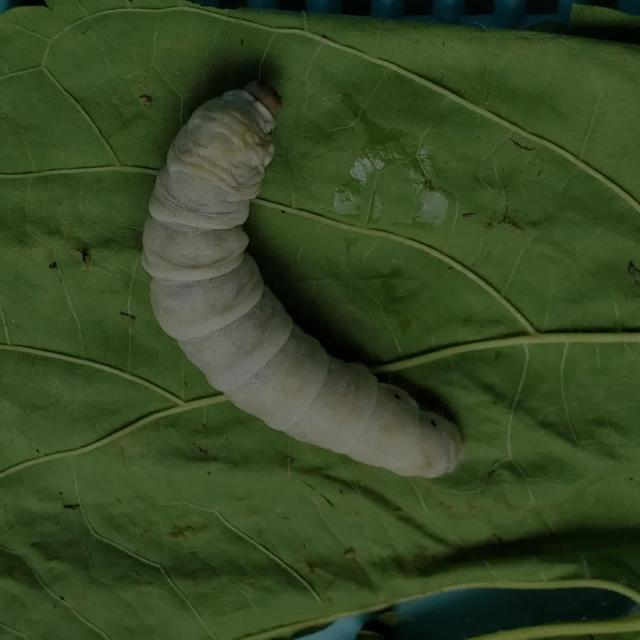Grasserie: (111, 52, 513, 506)
